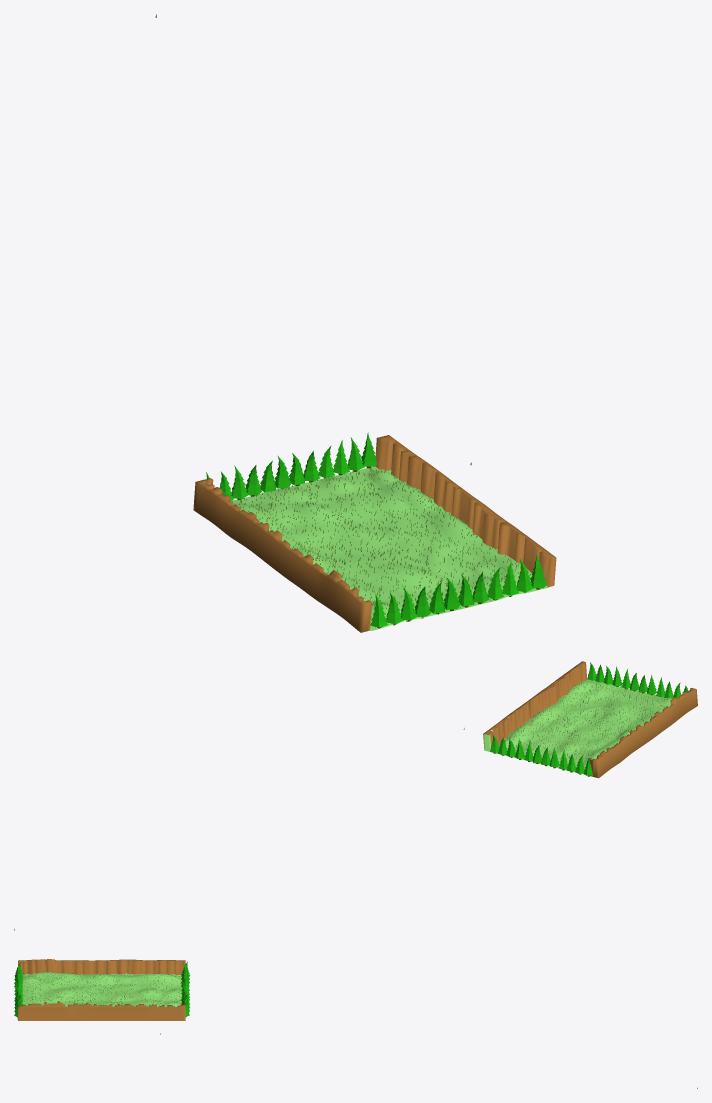
File: OneMap_1.fbx
3 views of the same model, one above another, from view 1: azimuth 30°, elevation 25°; view 2: azimuth 150°, elevation 25°; view 3: azimuth 270°, elevation 25° (orthographic). The views are drawn at different scales.
Visible parts, largest first — view 1: Plane.001, Plane.024, Cylinder.013, Cylinder.002; view 2: Plane.001, Plane.024, Cylinder.002, Cylinder.013; view 3: Plane.001, Plane.024, Cylinder.002, Cylinder.013.
Boxes of the visible parts, bbox=[...] form: Plane.001: bbox=[193, 435, 556, 632]; Plane.024: bbox=[255, 474, 548, 630]; Cylinder.013: bbox=[370, 554, 546, 628]; Cylinder.002: bbox=[206, 432, 376, 500]; Plane.001: bbox=[483, 661, 697, 778]; Plane.024: bbox=[505, 679, 671, 758]; Cylinder.002: bbox=[490, 734, 593, 776]; Cylinder.013: bbox=[587, 662, 688, 699]; Plane.001: bbox=[18, 959, 185, 1020]; Plane.024: bbox=[17, 972, 172, 1019]; Cylinder.002: bbox=[181, 961, 190, 1016]; Cylinder.013: bbox=[14, 962, 23, 1017].
Bounding box in the file's own units: 984 × 72.58 × 2450.
